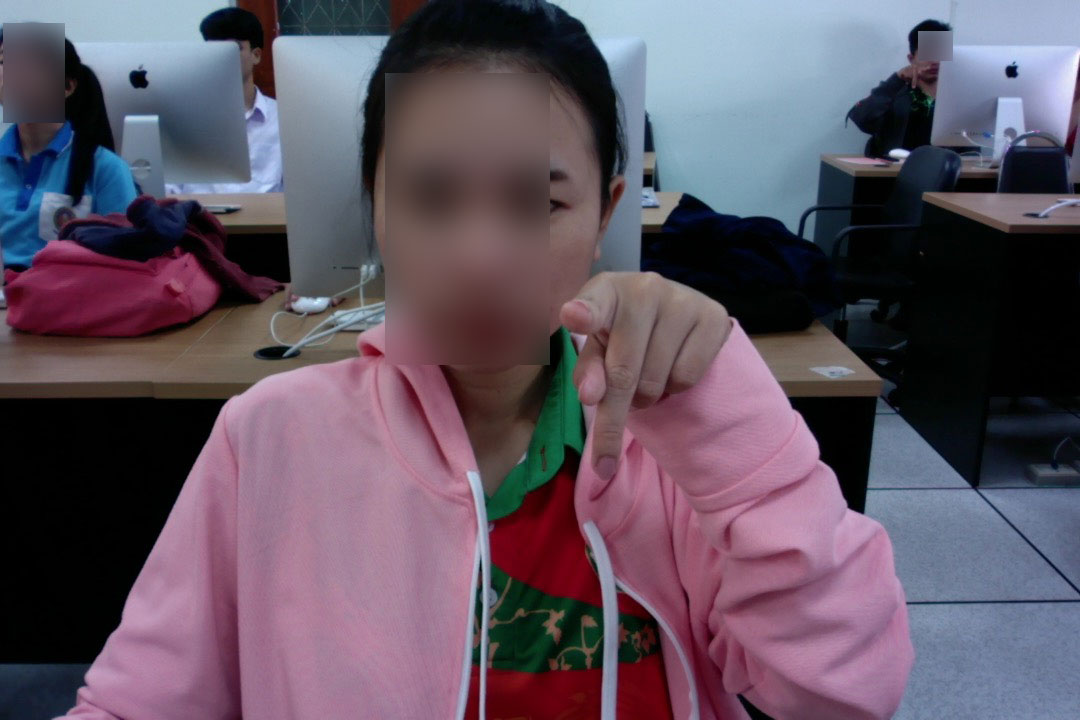por: (556, 257, 734, 482)
